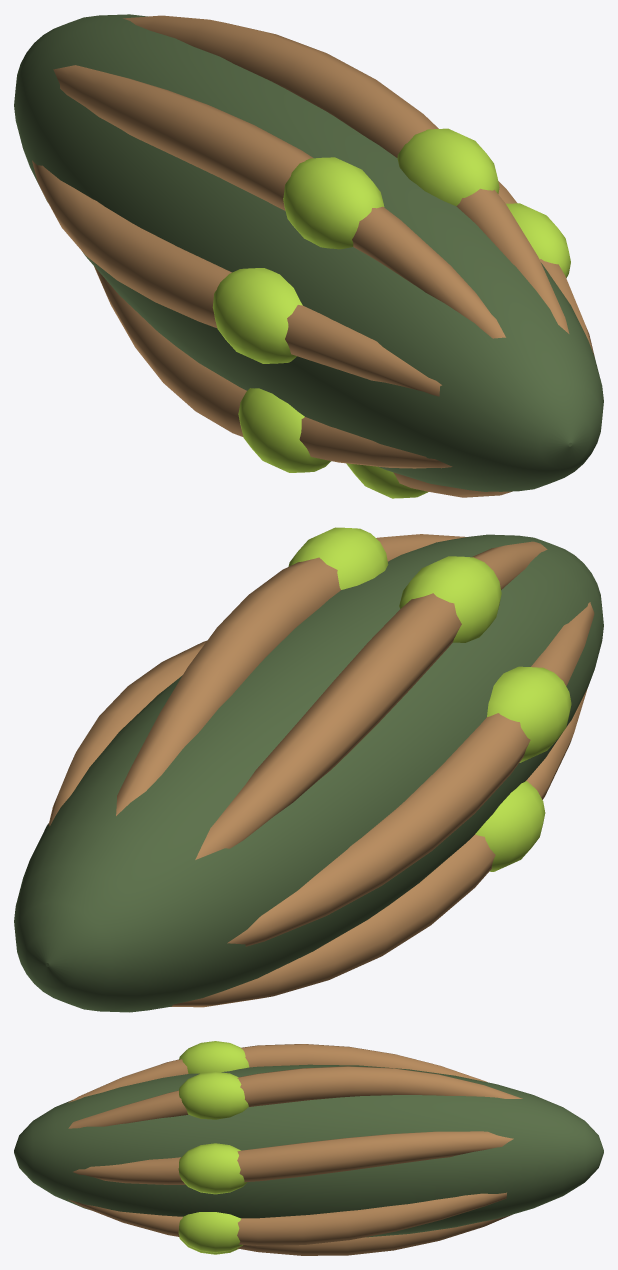
Rendered from living_spore_round.glb.
3 renders of one model, top to bottom at view 1: azimuth 30°, elevation 25°; view 2: azimuth 150°, elevation 25°; view 3: azimuth 270°, elevation 25°, orthographic. The views are drawn at different scales.
Visible parts, largest first — view 1: living_spore_round; view 2: living_spore_round; view 3: living_spore_round.
Part boxes in pixels (x1,y1,x2,y2): living_spore_round: [14, 14, 603, 498]; living_spore_round: [14, 527, 603, 1012]; living_spore_round: [14, 1041, 603, 1255].
Size of the model in its own units: 0.9005 by 0.8922 by 2.44.
